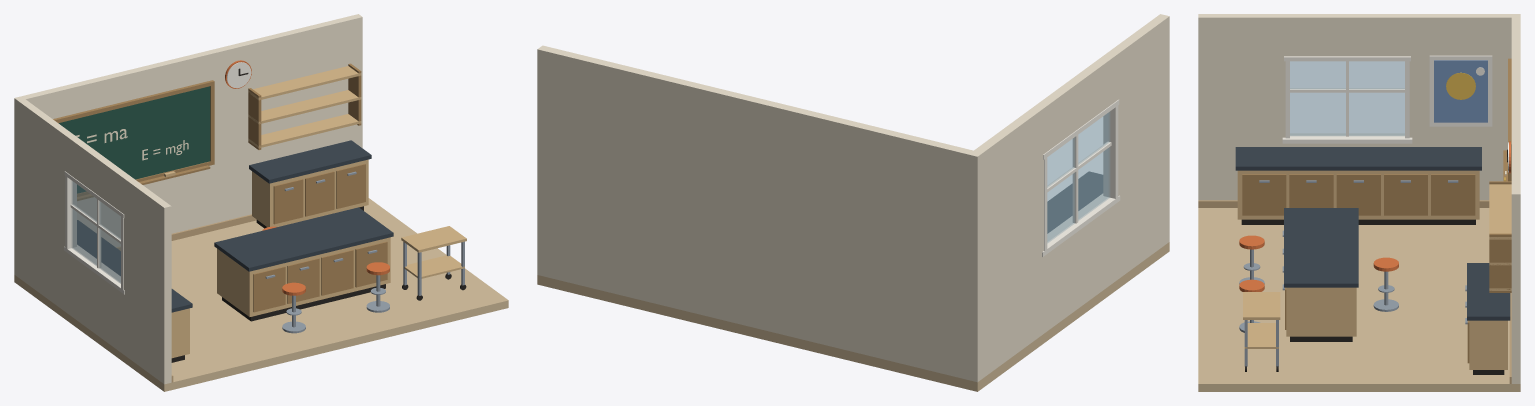
File: physics.glb
The picture shows the model from 3 angles, left to right: view 1: azimuth 30°, elevation 25°; view 2: azimuth 150°, elevation 25°; view 3: azimuth 270°, elevation 25°; orthographic projection. The views are drawn at different scales.
Visible parts, largest first — view 1: ENV_wall_back, ENV_floor, ENV_wall_left_low, board_surface, ENV_wall_left_high, PRP_island_top, PRP_island, ENV_wall_left_front, ENV_wall_left_rear, PRP_bench_back, PRP_island_body, window_glass (+17 smaller); view 2: ENV_wall_back, ENV_wall_left_low, ENV_wall_left_high, ENV_floor, ENV_wall_left_rear, ENV_wall_left_front, window_glass, PRP_bench_left_top, window_frame_front, window_frame_bottom; view 3: ENV_floor, ENV_wall_left_high, PRP_bench_left, window_glass, ENV_wall_left_front, PRP_island_top, PRP_bench_left_top, ENV_wall_left_low, ENV_wall_left_rear, ENV_wall_back, PRP_island_body, PRP_bench_left_body (+21 smaller).
Boxes of the visible parts, box(x1,y1,x2,y2) form: ENV_wall_back: box(14, 14, 362, 276); ENV_floor: box(14, 198, 508, 391); ENV_wall_left_low: box(18, 215, 171, 384); board_surface: box(59, 86, 210, 193); ENV_wall_left_high: box(18, 99, 171, 245); PRP_island_top: box(214, 207, 393, 271); PRP_island: box(253, 241, 387, 312); ENV_wall_left_front: box(123, 217, 171, 321); ENV_wall_left_rear: box(18, 139, 65, 247); PRP_bench_back: box(273, 164, 365, 224); PRP_island_body: box(217, 237, 390, 316); window_glass: box(72, 181, 120, 283); ENV_wall_back: box(537, 45, 982, 382); ENV_wall_left_low: box(983, 161, 1169, 377); ENV_wall_left_high: box(974, 14, 1169, 200); ENV_floor: box(537, 242, 1169, 391); ENV_wall_left_rear: box(983, 157, 1043, 297); ENV_wall_left_front: box(1118, 65, 1169, 196); window_glass: box(1047, 112, 1109, 242); PRP_bench_left_top: box(1047, 171, 1102, 233); window_frame_front: box(1103, 105, 1118, 200); window_frame_bottom: box(1042, 194, 1120, 256); ENV_floor: box(1198, 208, 1520, 391); ENV_wall_left_high: box(1198, 14, 1511, 58); PRP_bench_left: box(1242, 174, 1475, 215); window_glass: box(1290, 61, 1404, 135); ENV_wall_left_front: box(1198, 58, 1285, 139); PRP_island_top: box(1284, 208, 1358, 287); PRP_bench_left_top: box(1235, 147, 1481, 170); ENV_wall_left_low: box(1198, 139, 1507, 200); ENV_wall_left_rear: box(1409, 58, 1511, 139); ENV_wall_back: box(1511, 14, 1520, 383); PRP_island_body: box(1286, 287, 1356, 336); PRP_bench_left_body: box(1237, 170, 1479, 219).
Bounding box in the file's own units: 5.73 × 2.92 × 4.32.
